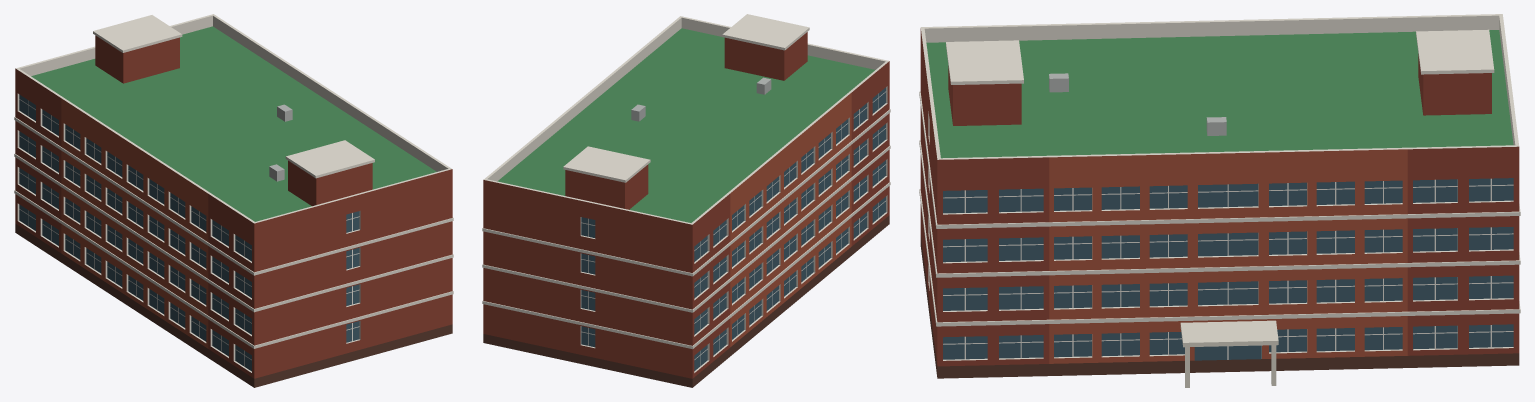
3 renders of one model, left to right at view 1: azimuth 30°, elevation 25°; view 2: azimuth 150°, elevation 25°; view 3: azimuth 270°, elevation 25°, orthographic. The views are drawn at different scales.
Parts seen in each view (by area): view 1: wing3__brick, wing3__roof, wing3__trim-concrete, wing3__wall-plaster, wing3__glass, wing3__base-stone, wing3__frame, wing3__equipment; view 2: wing3__brick, wing3__roof, wing3__trim-concrete, wing3__wall-plaster, wing3__glass, wing3__base-stone, wing3__frame, wing3__equipment; view 3: wing3__roof, wing3__wall-plaster, wing3__glass, wing3__brick, wing3__trim-concrete, wing3__base-stone, wing3__frame, wing3__canopy-concrete, wing3__equipment.
Boxes of the visible parts, left/top/right/bottom form: wing3__brick: left=15, top=35, right=452, bottom=378; wing3__roof: left=31, top=26, right=436, bottom=221; wing3__trim-concrete: left=14, top=14, right=453, bottom=372; wing3__wall-plaster: left=61, top=98, right=208, bottom=348; wing3__glass: left=19, top=94, right=359, bottom=371; wing3__base-stone: left=15, top=224, right=452, bottom=387; wing3__frame: left=19, top=99, right=359, bottom=366; wing3__equipment: left=269, top=104, right=292, bottom=181; wing3__brick: left=483, top=32, right=889, bottom=378; wing3__roof: left=497, top=28, right=874, bottom=222; wing3__trim-concrete: left=482, top=14, right=890, bottom=372; wing3__wall-plaster: left=730, top=93, right=851, bottom=346; wing3__glass: left=581, top=87, right=885, bottom=370; wing3__base-stone: left=483, top=215, right=889, bottom=387; wing3__frame: left=581, top=91, right=886, bottom=366; wing3__equipment: left=631, top=77, right=771, bottom=121; wing3__roof: left=926, top=30, right=1513, bottom=158; wing3__wall-plaster: left=1049, top=149, right=1407, bottom=363; wing3__glass: left=943, top=178, right=1513, bottom=360; wing3__brick: left=920, top=28, right=1519, bottom=366; wing3__trim-concrete: left=919, top=14, right=1520, bottom=360; wing3__base-stone: left=920, top=235, right=1519, bottom=378; wing3__frame: left=943, top=178, right=1513, bottom=359; wing3__canopy-concrete: left=1180, top=320, right=1278, bottom=387; wing3__equipment: left=1049, top=73, right=1226, bottom=135.
Bounding box in the file's own units: 25.51 × 18.45 × 40.22.
